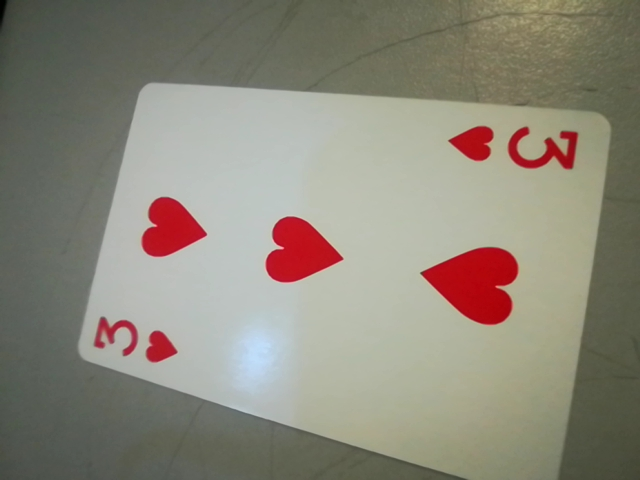hx 3: (452, 117, 590, 178)
